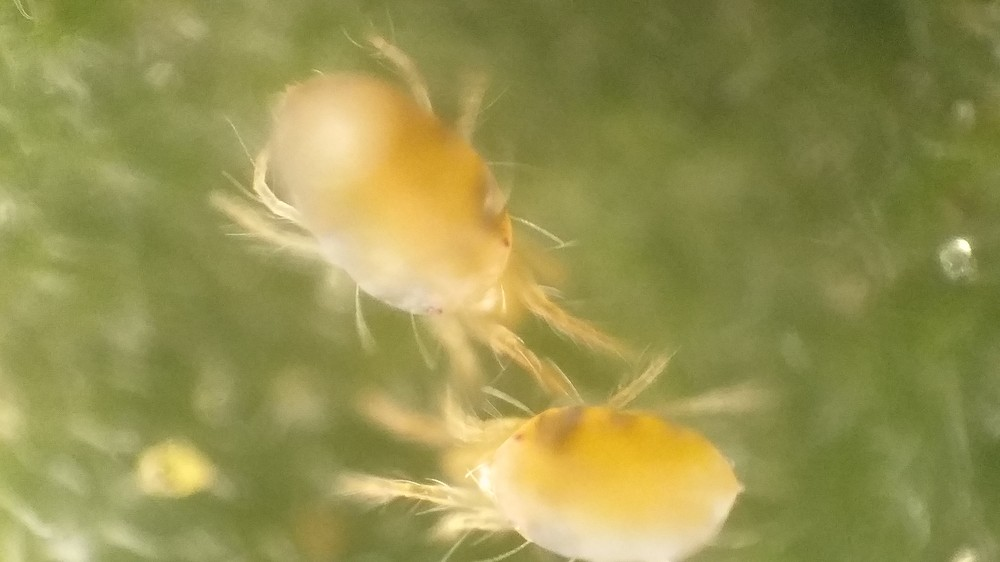Aracnido Rojo: (199, 28, 656, 384), (346, 341, 834, 562)
